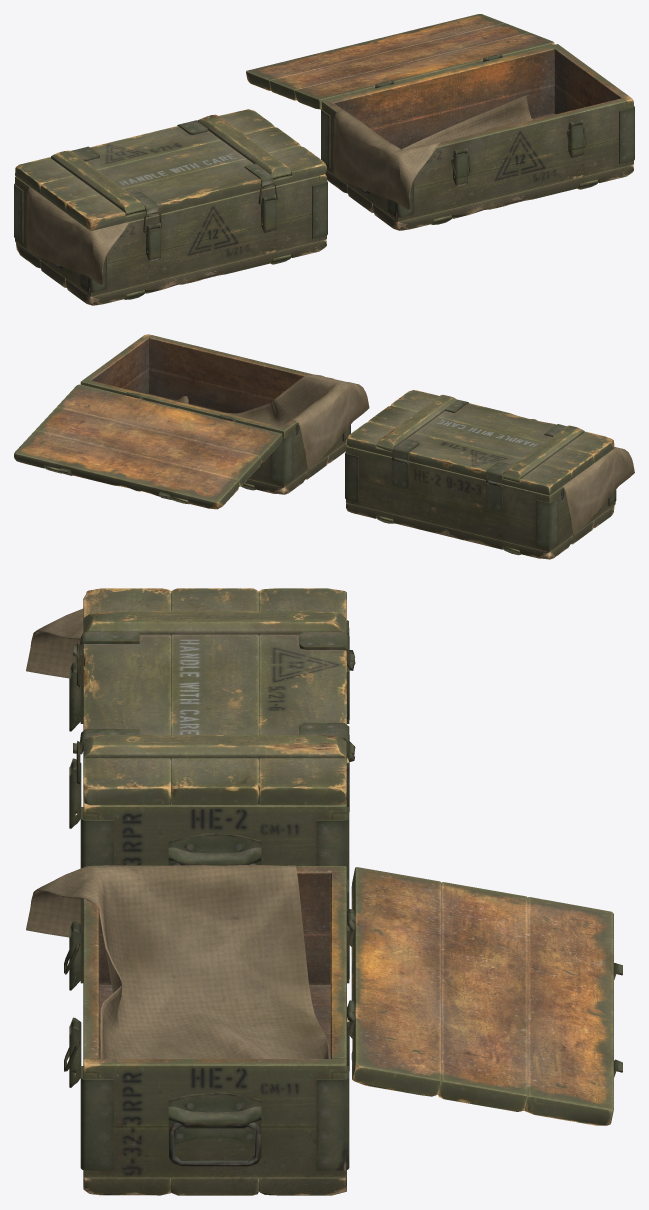
The model's file is old_military_crate.glb.
3 renders of one model, top to bottom at view 1: azimuth 30°, elevation 25°; view 2: azimuth 150°, elevation 25°; view 3: azimuth 270°, elevation 25°, orthographic. The views are drawn at different scales.
Parts seen in each view (by area): view 1: old_military_crate; view 2: old_military_crate; view 3: old_military_crate.
Boxes of the visible parts, left/top/right/bottom form: old_military_crate: left=14, top=14, right=634, bottom=305; old_military_crate: left=14, top=334, right=634, bottom=559; old_military_crate: left=26, top=588, right=622, bottom=1195.
Bounding box in the file's own units: 1.82 × 0.3009 × 0.9744.
1 material, 1 textured.
